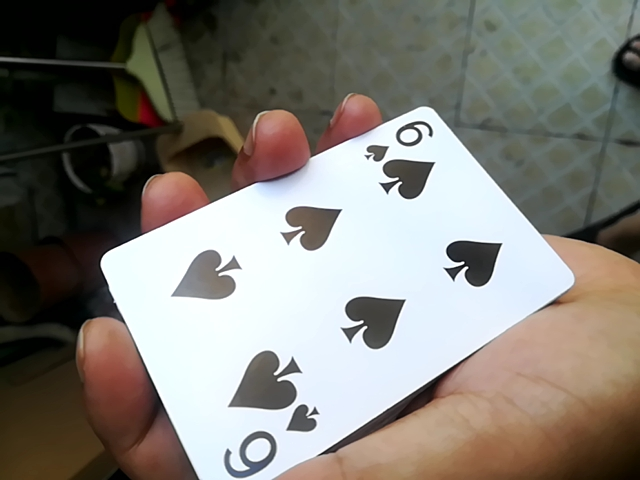ht 6: (85, 96, 580, 480)
